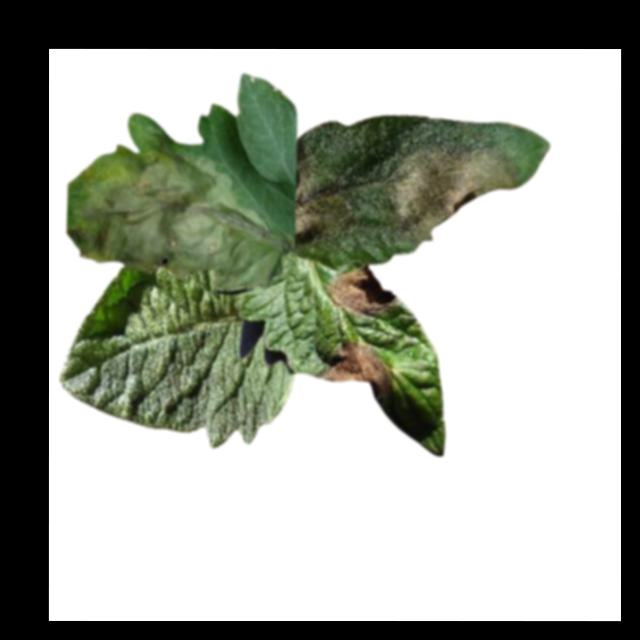Late_blight: (66, 114, 280, 286), (386, 117, 521, 246), (294, 132, 356, 248), (316, 340, 396, 402), (324, 264, 401, 322)
